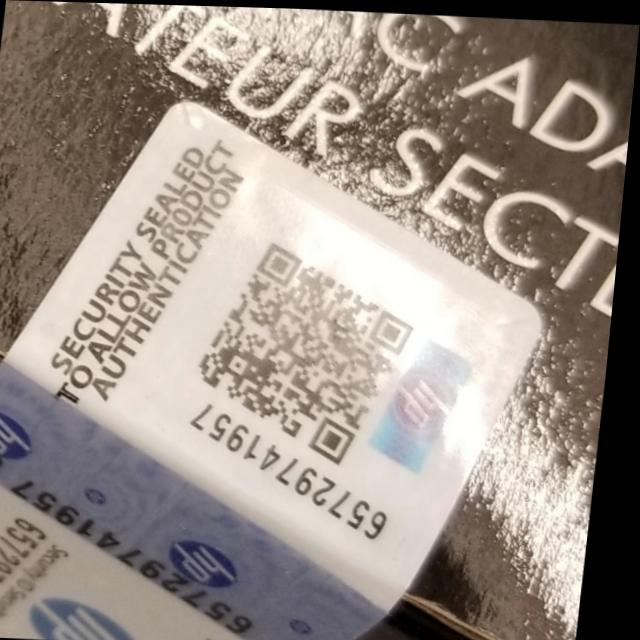QR_CODE: (185, 226, 433, 478)
